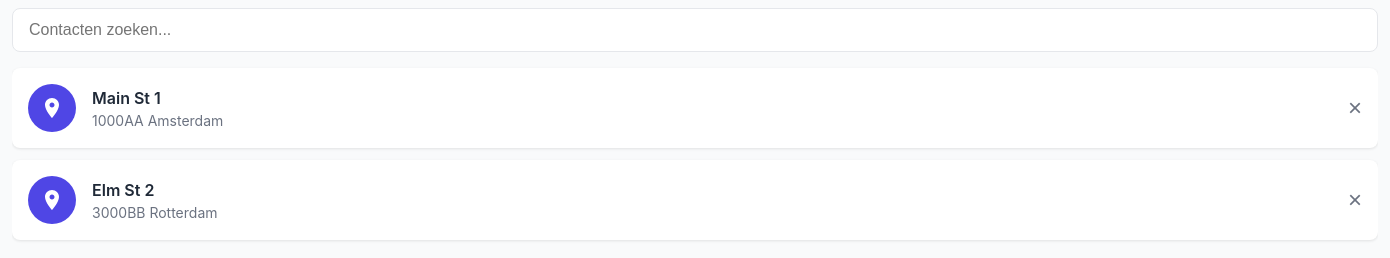
Test: AddressList › filters displayed cards as the user types in the search bar
The image size is (1390, 258).
In the field: (695, 30) [12,8,1378,52], type "Main"
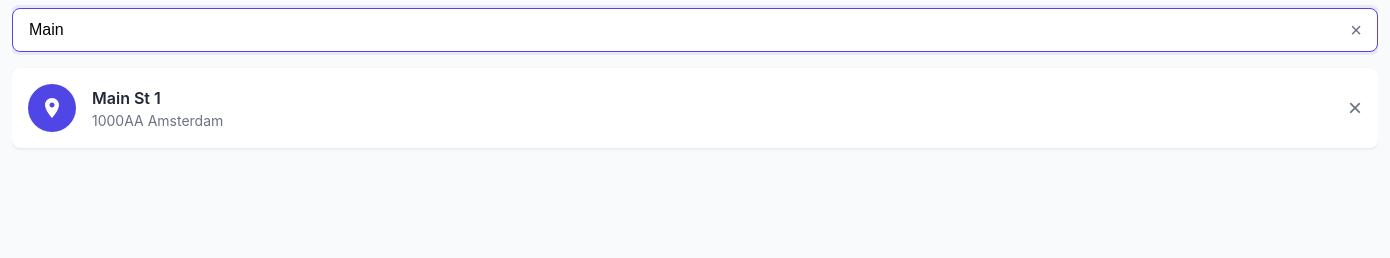
Check: the heading "Main St 1" is shown, box [92,88,161,108]
Check: the link "Elm St 2" is gone
